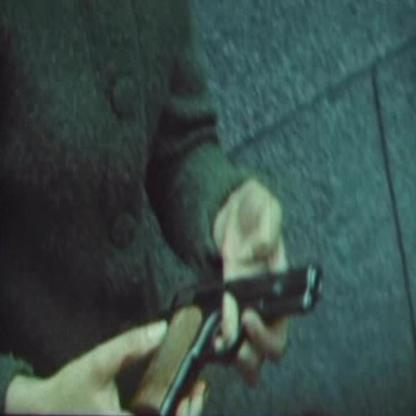gun: (128, 244, 333, 416)
